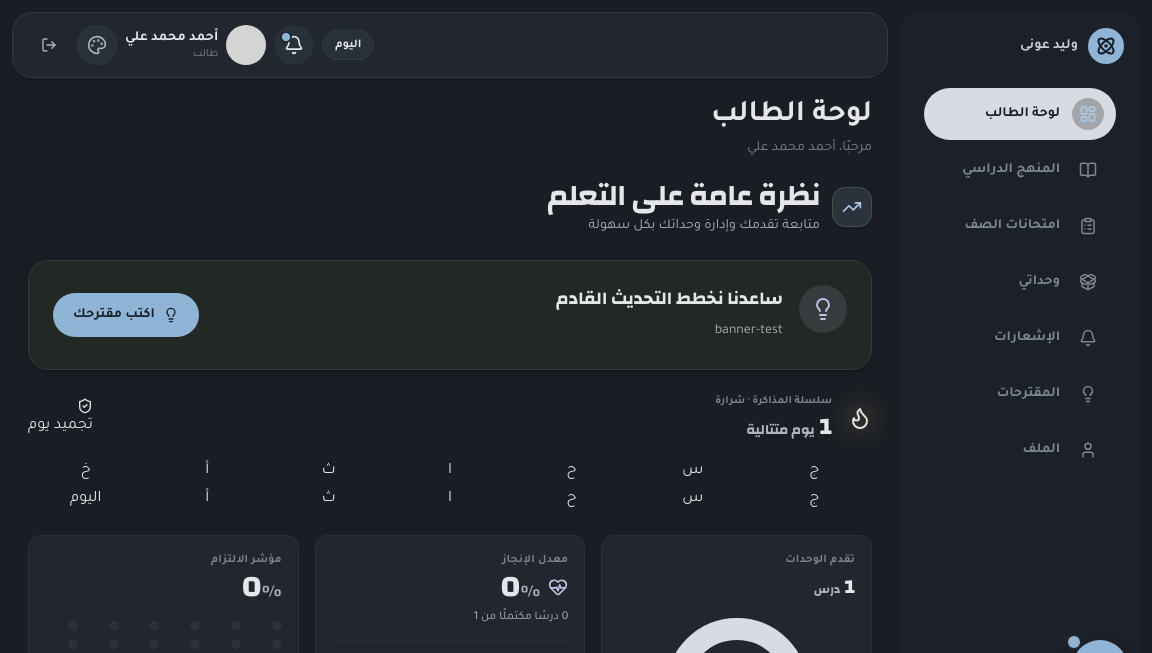
StreakCard › freezes a day and confirms with a toast
The image size is (1152, 653).
Click the button with test id "streak-freeze-btn".
click(60, 418)  # box [28,398,93,438]
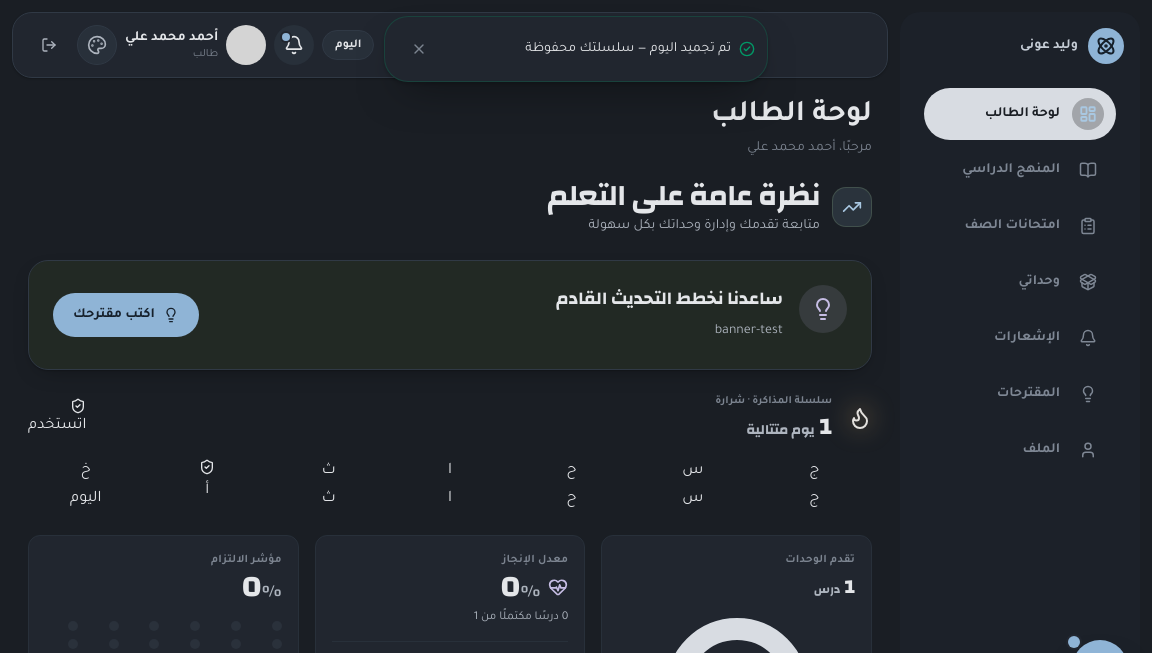
Now the text "تم تجميد اليوم — سلسلتك محفوظة" is shown, box [525,42,731,56]
